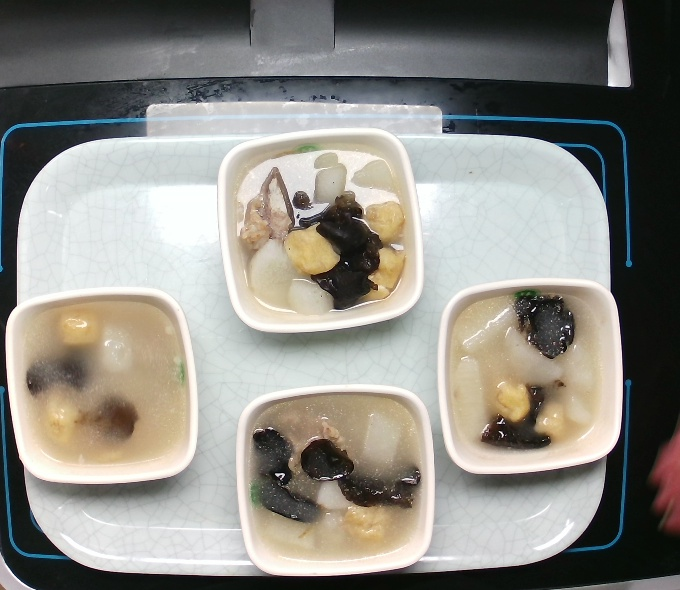wcq-ShanYaoTang: (226, 140, 412, 316), (242, 391, 431, 564), (444, 287, 619, 466), (15, 299, 192, 473)
